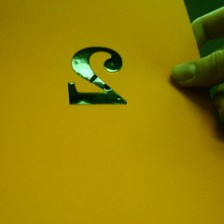orange2: (58, 42, 142, 109)
